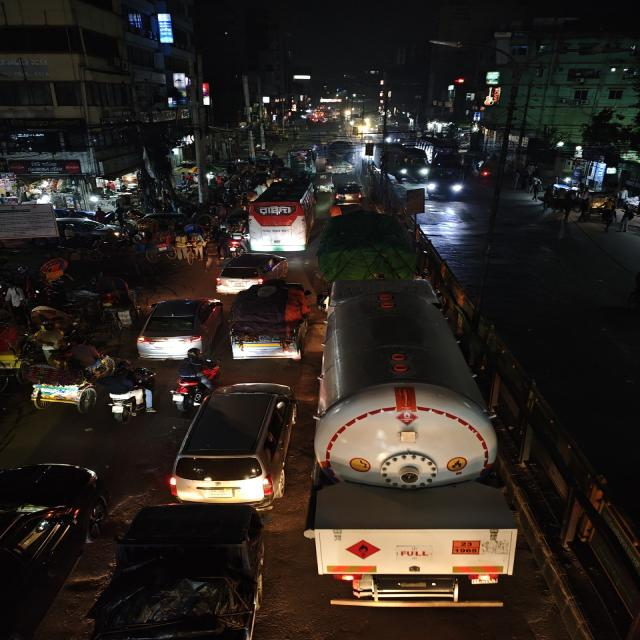bus: (248, 179, 320, 253), (426, 140, 466, 201), (376, 143, 430, 185), (286, 146, 316, 174)
car: (0, 450, 108, 638), (169, 379, 301, 506), (134, 294, 224, 358), (212, 252, 289, 292), (330, 174, 365, 206)
motorcycle: (169, 348, 215, 408), (224, 233, 247, 255)
pedestrian: (168, 227, 191, 265), (185, 231, 210, 262), (600, 205, 617, 232)
pickup_van: (89, 502, 276, 639), (226, 281, 312, 363), (322, 210, 421, 281)
rickshaw: (17, 357, 100, 415), (98, 364, 154, 422), (133, 213, 188, 263), (29, 304, 76, 338), (34, 256, 76, 290), (0, 323, 24, 379)
truck: (314, 267, 525, 626), (323, 139, 358, 175)
